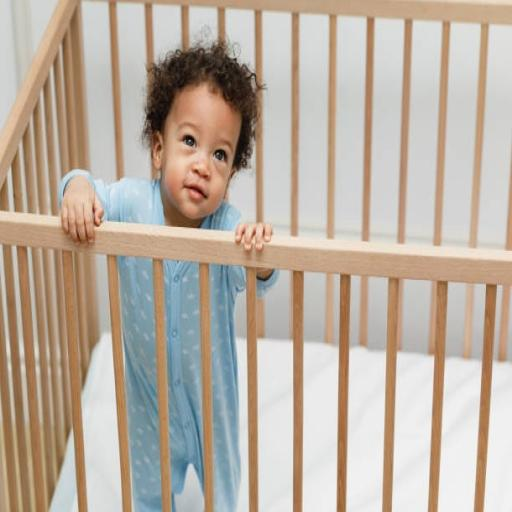baby: (61, 42, 271, 250)
crib: (0, 0, 511, 510)
